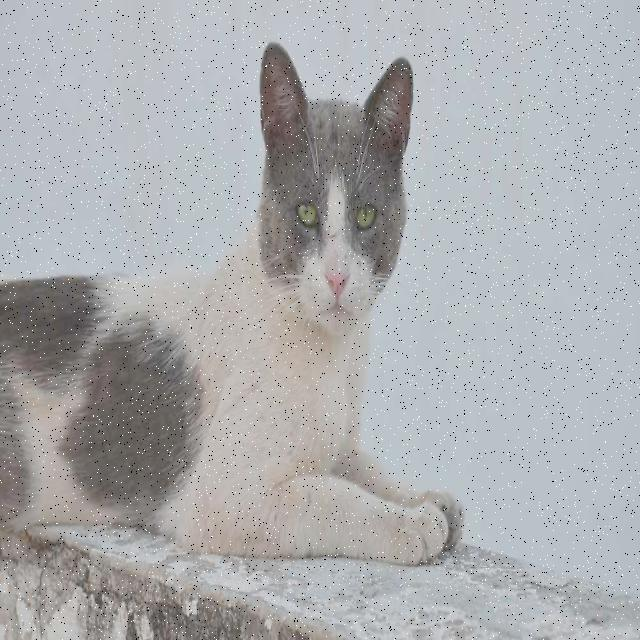cat: (0, 43, 462, 564)
